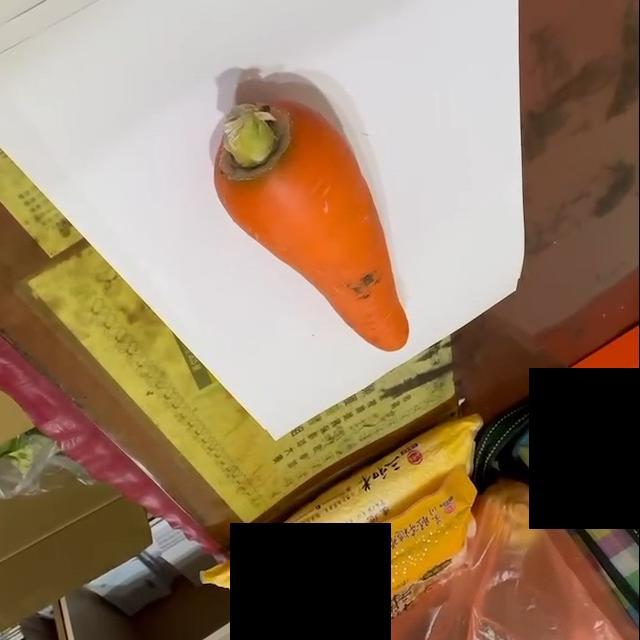carrot: (213, 94, 413, 357)
